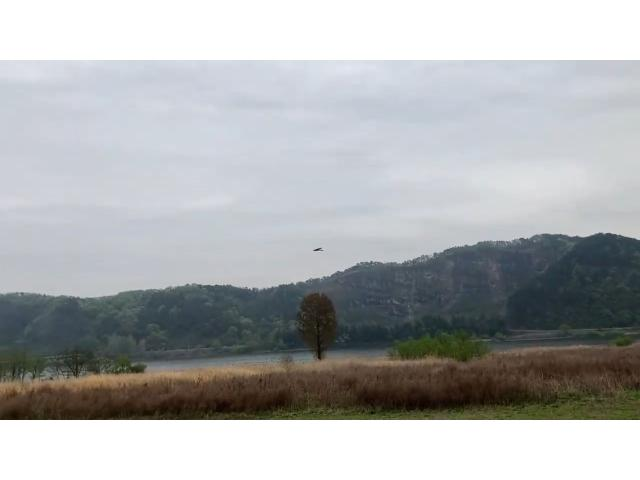Anti-Drone: (308, 237, 332, 256)
